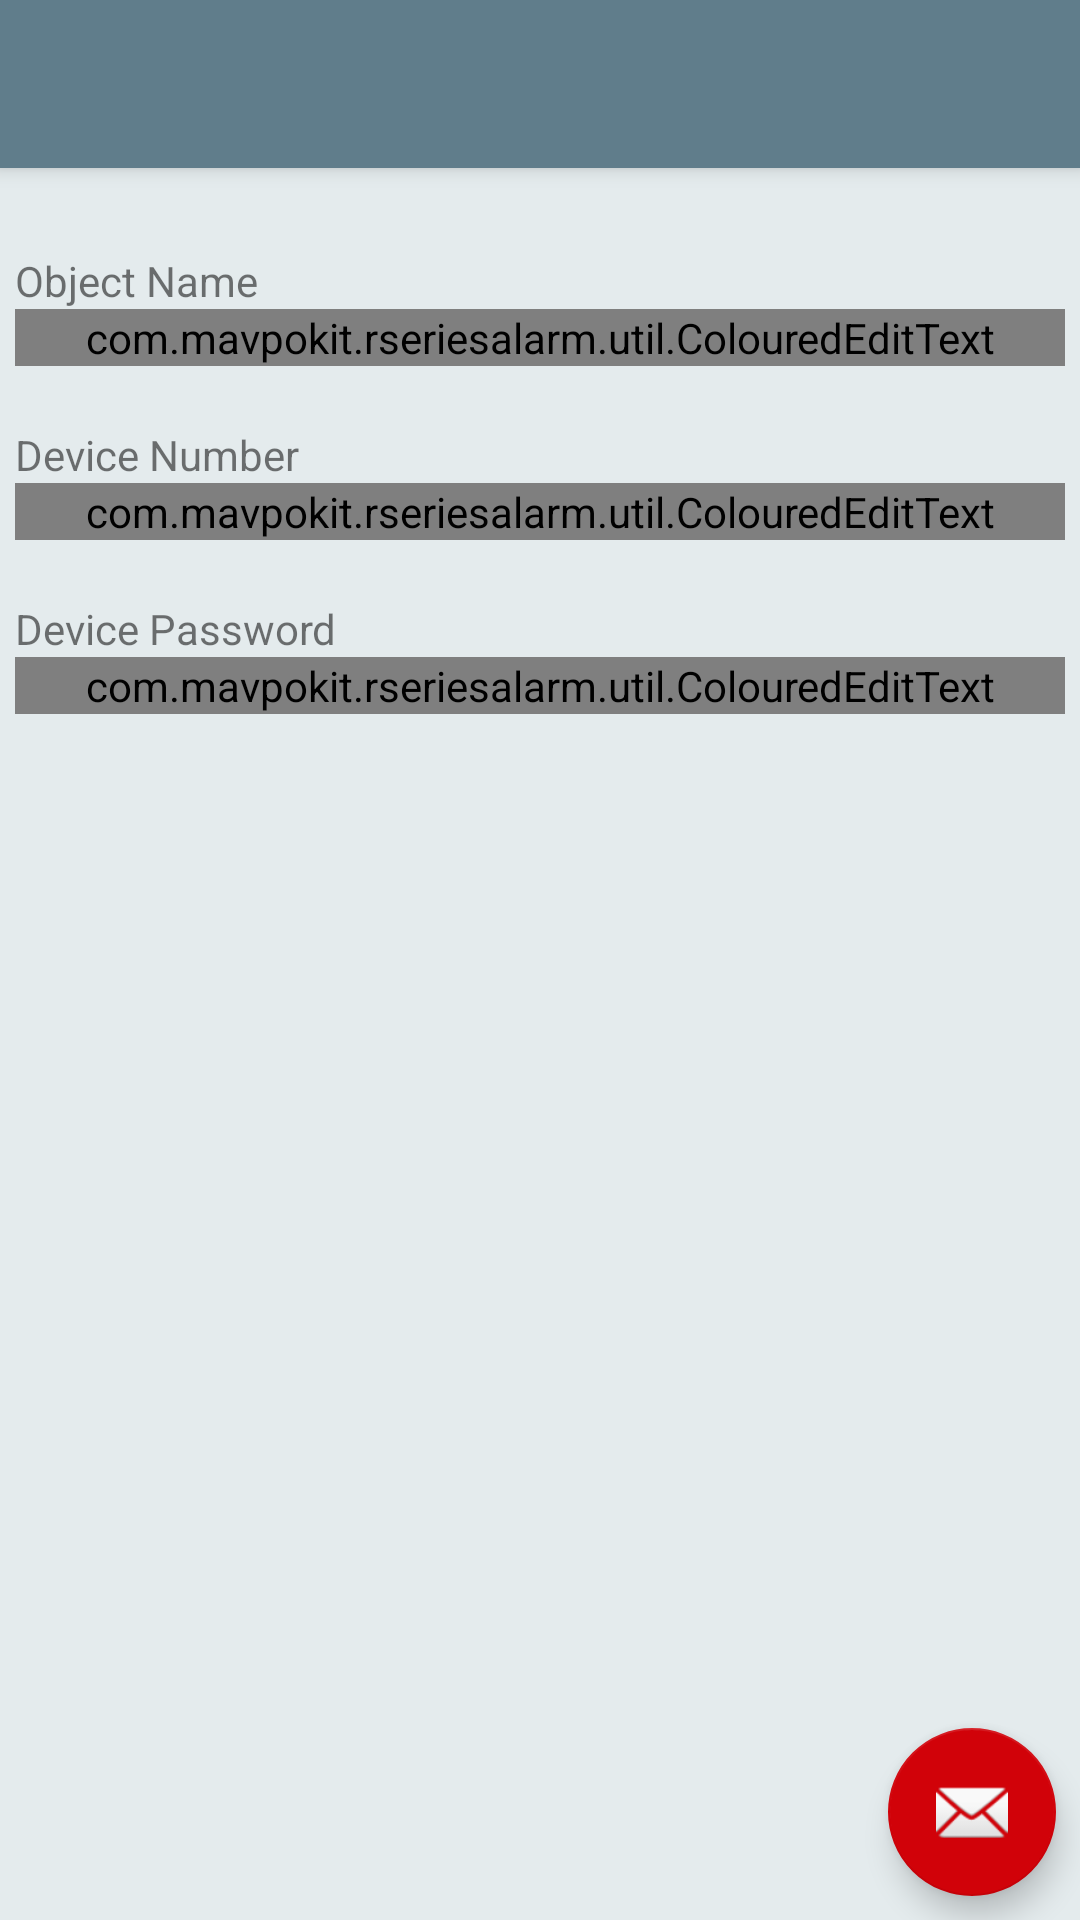

Icon click points for this 1080w x 1920h phone screenshot, format (x,y):
email: (972,1812)
